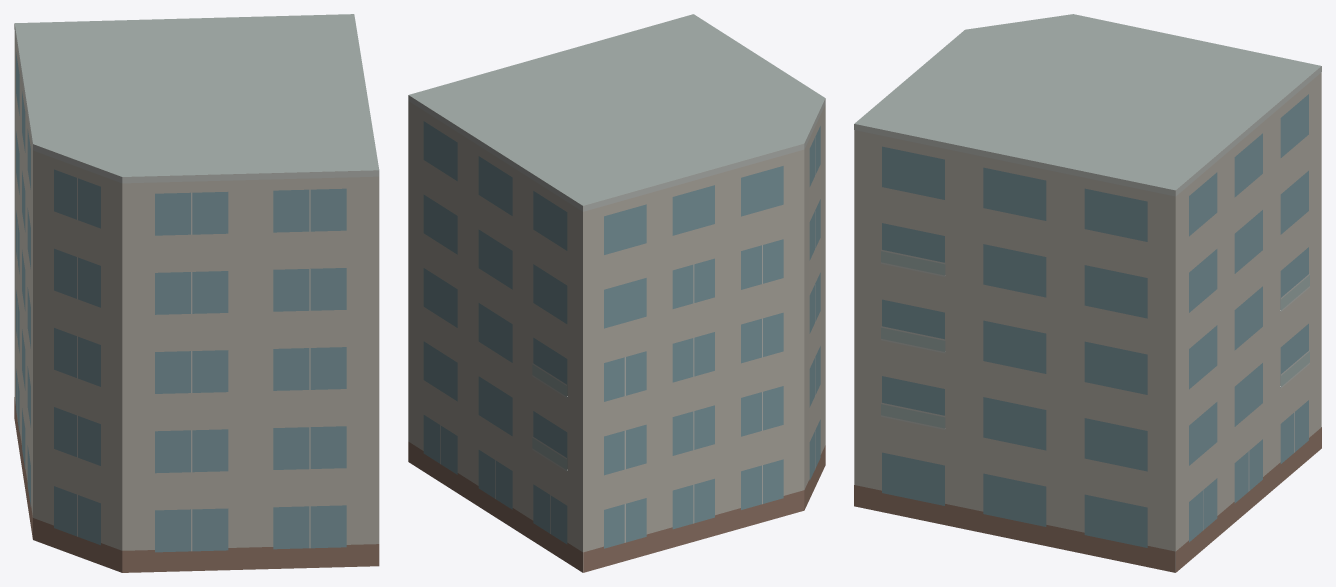
Rendered from survey-upis-32886220.glb.
The picture shows the model from 3 angles, left to right: view 1: azimuth 30°, elevation 25°; view 2: azimuth 150°, elevation 25°; view 3: azimuth 270°, elevation 25°; orthographic projection. The views are drawn at different scales.
Visible parts, largest first — view 1: survey-upis-32886220.tmp; view 2: survey-upis-32886220.tmp; view 3: survey-upis-32886220.tmp.
Boxes of the visible parts, x1,y1,x2,y2 form: survey-upis-32886220.tmp: (14, 14, 379, 572); survey-upis-32886220.tmp: (408, 14, 825, 572); survey-upis-32886220.tmp: (854, 14, 1321, 572).
Size of the model in its own units: 15.05 by 15.2 by 16.85.
